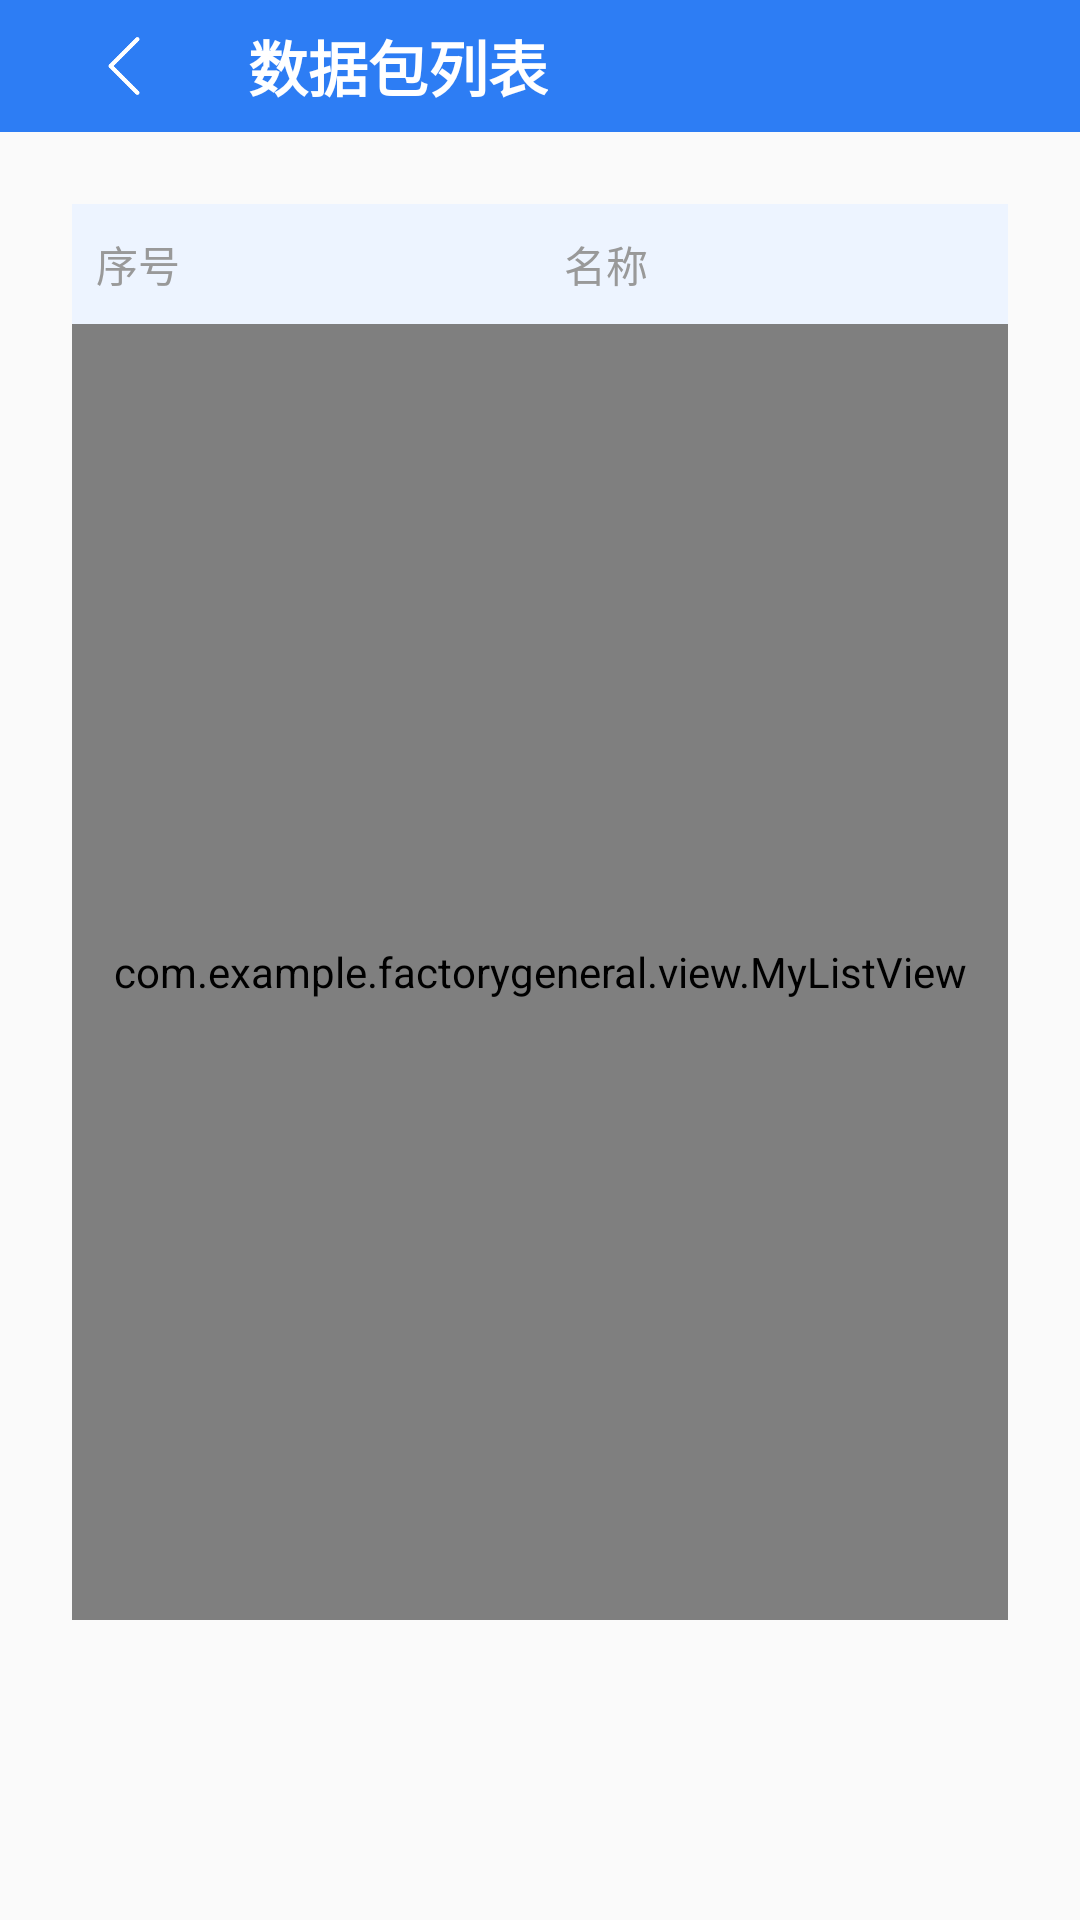

Icons on this 1080×1920 Android screen, each with its box as (x1, y1, x2, y2):
left: (108, 37, 140, 95)
